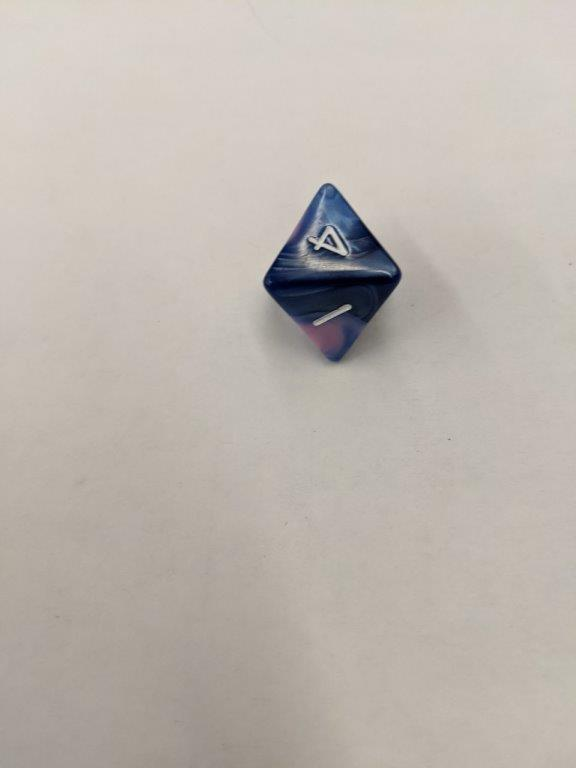d8-4: (263, 182, 401, 364)
